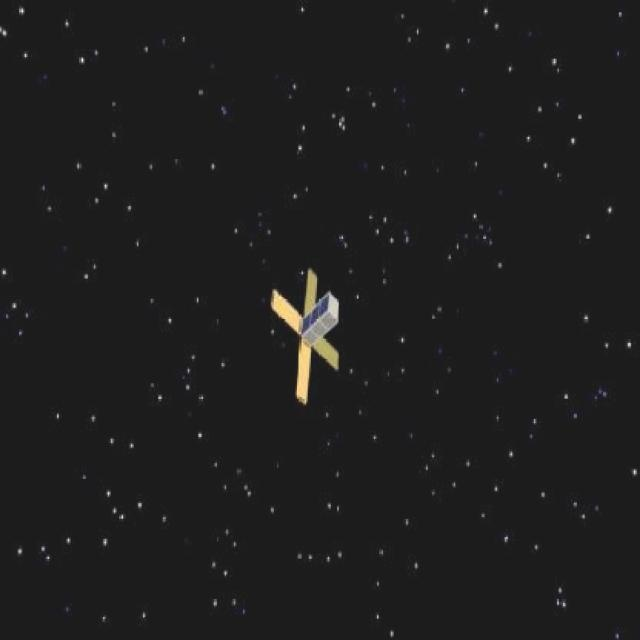satellite: (257, 263, 351, 415)
